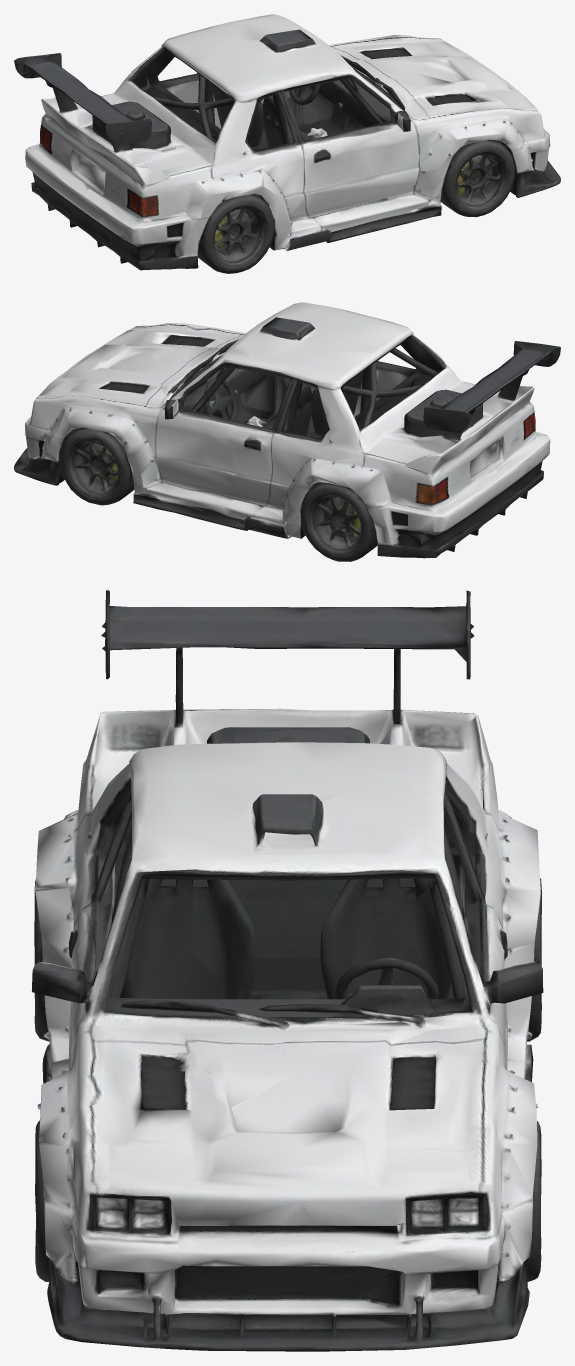
File: arroyo.glb
3 views of the same model, one above another, from view 1: azimuth 30°, elevation 25°; view 2: azimuth 150°, elevation 25°; view 3: azimuth 270°, elevation 25° (orthographic). The views are drawn at different scales.
Visible parts, largest first — view 1: tripo_node_ef9c6114-3f7d-4e71-b1a6-9382c14dee55; view 2: tripo_node_ef9c6114-3f7d-4e71-b1a6-9382c14dee55; view 3: tripo_node_ef9c6114-3f7d-4e71-b1a6-9382c14dee55.
Boxes of the visible parts, left/top/right/bottom form: tripo_node_ef9c6114-3f7d-4e71-b1a6-9382c14dee55: left=14, top=14, right=560, bottom=273; tripo_node_ef9c6114-3f7d-4e71-b1a6-9382c14dee55: left=14, top=302, right=560, bottom=561; tripo_node_ef9c6114-3f7d-4e71-b1a6-9382c14dee55: left=32, top=590, right=543, bottom=1351.
Size of the model in its own units: 1 by 0.3515 by 0.4826.
1 material, 1 textured.
